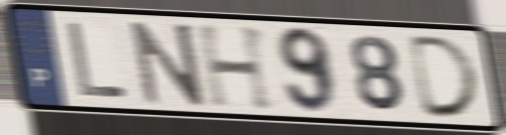8: (349, 33, 408, 114)
9: (273, 24, 338, 118)
D: (407, 33, 485, 120)
H: (194, 23, 279, 114)
L: (64, 19, 131, 100)
N: (127, 19, 210, 108)
